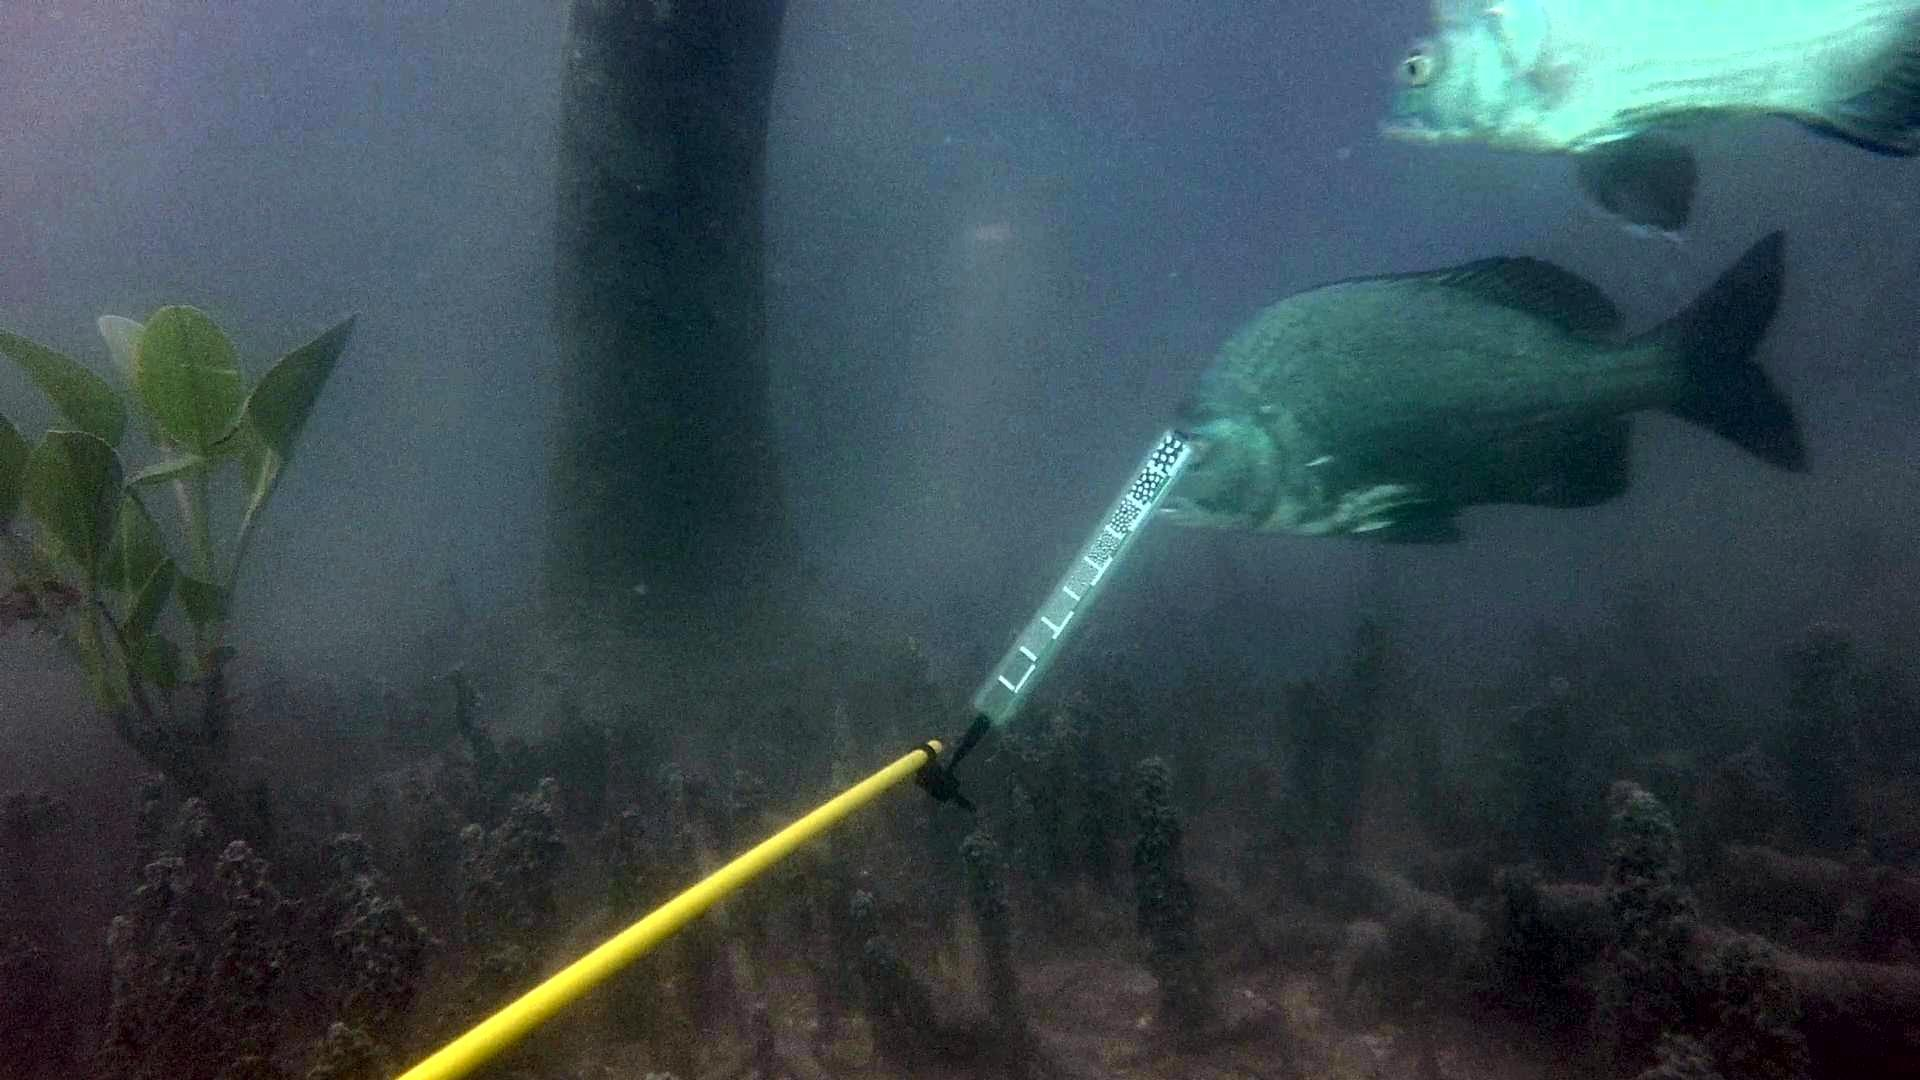acanthopagrus palmaris: (1158, 225, 1809, 563), (1365, 0, 1920, 252)
